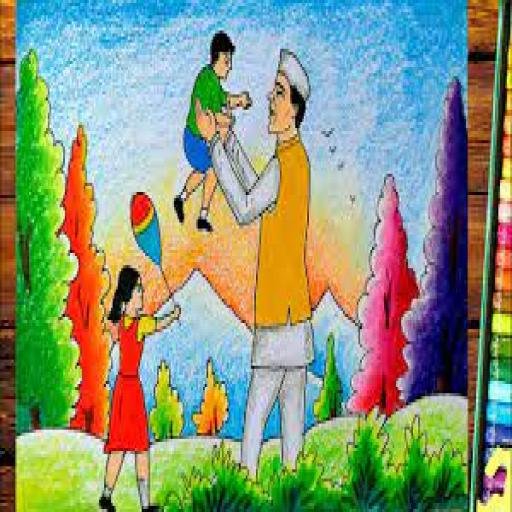person: (196, 41, 328, 486), (92, 260, 184, 512), (174, 29, 254, 245)
